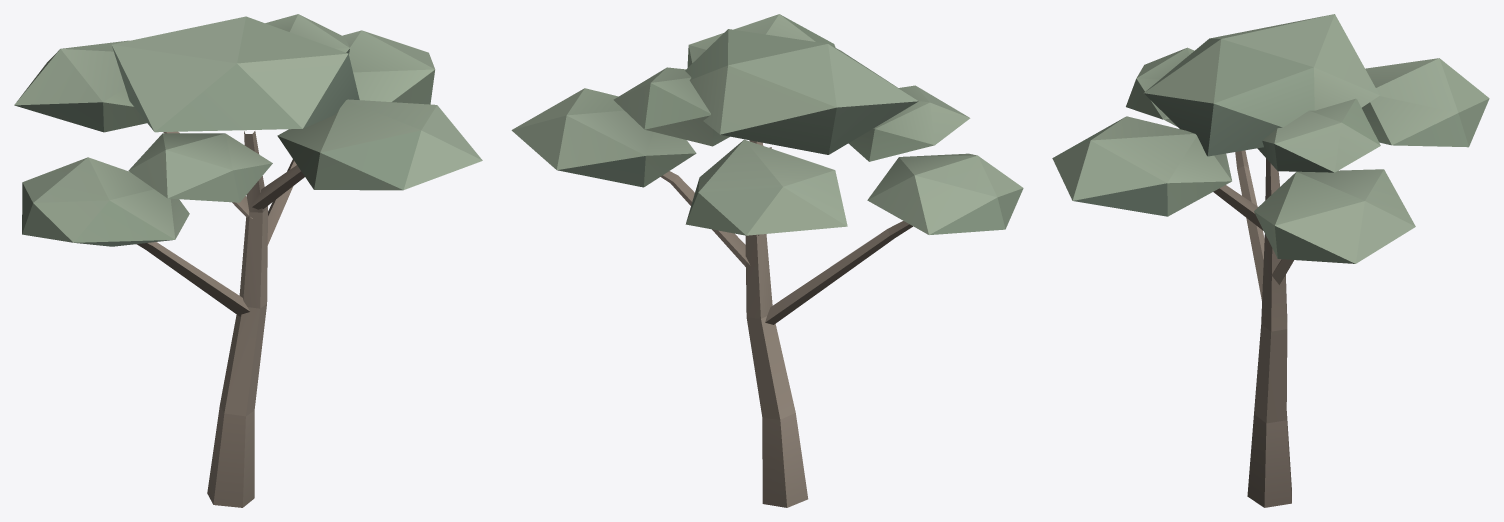
Rendered from pine.lod1.glb.
The picture shows the model from 3 angles, left to right: view 1: azimuth 30°, elevation 25°; view 2: azimuth 150°, elevation 25°; view 3: azimuth 270°, elevation 25°; orthographic projection. The views are drawn at different scales.
Bounding box in the file's own units: 7.18 × 6.86 × 6.04.
